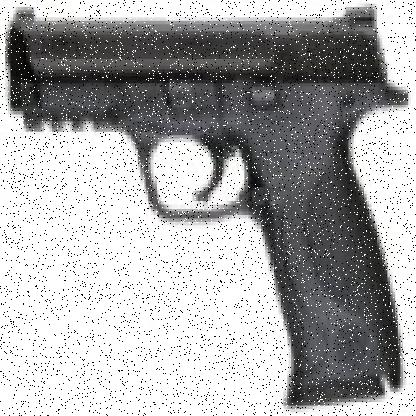pistol: (10, 3, 403, 405)
